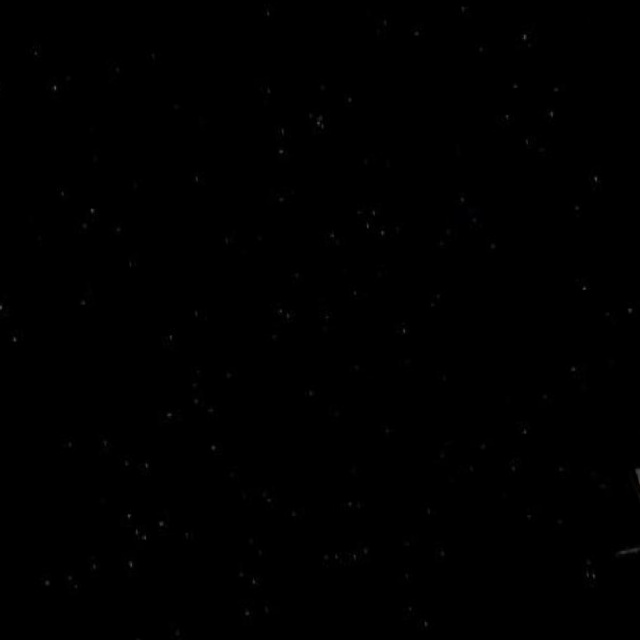satellite: (599, 453, 640, 573)
